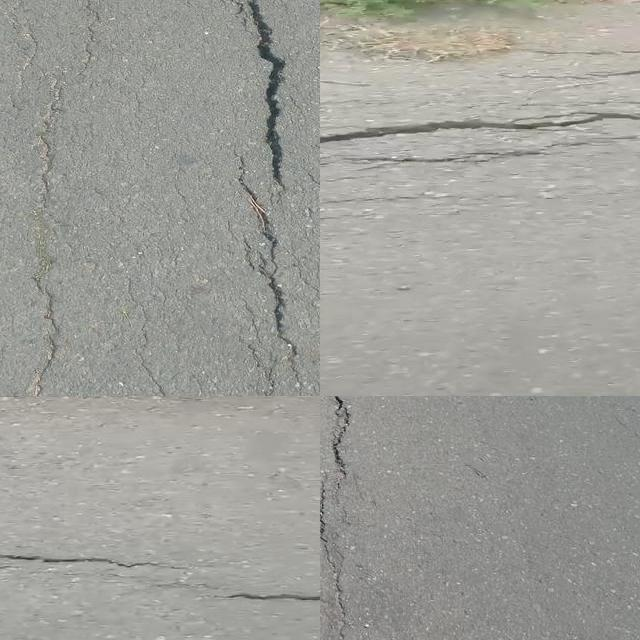Melintang: (0, 541, 320, 618), (320, 99, 640, 162)
Memanjang: (225, 0, 297, 392), (320, 396, 377, 640)
